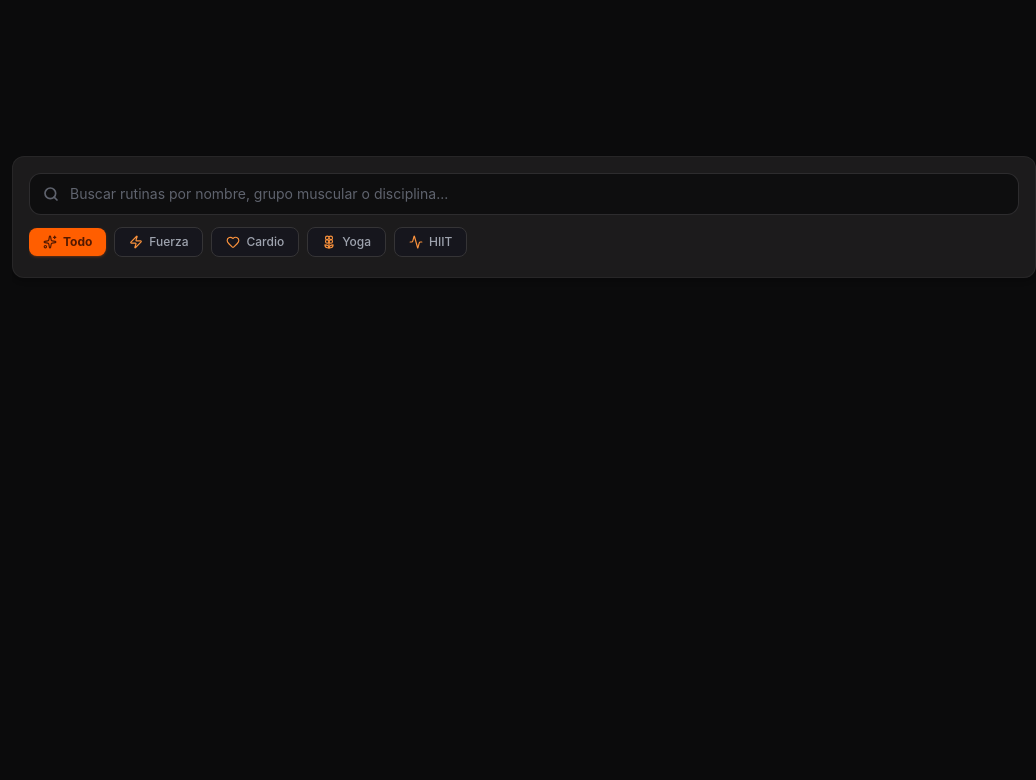
Test: BibliotecaPage › restablece chips y búsqueda con el botón Restablecer filtros
The image size is (1036, 780).
Búsqueda sin coincidencias + filtro Yoga → estado sin resultados del diseño
In the field with placeholder "Buscar rutinas por nombre, grupo muscular o disciplina...": [524, 194] box 29,172 -> 1019,214, type "zzz"
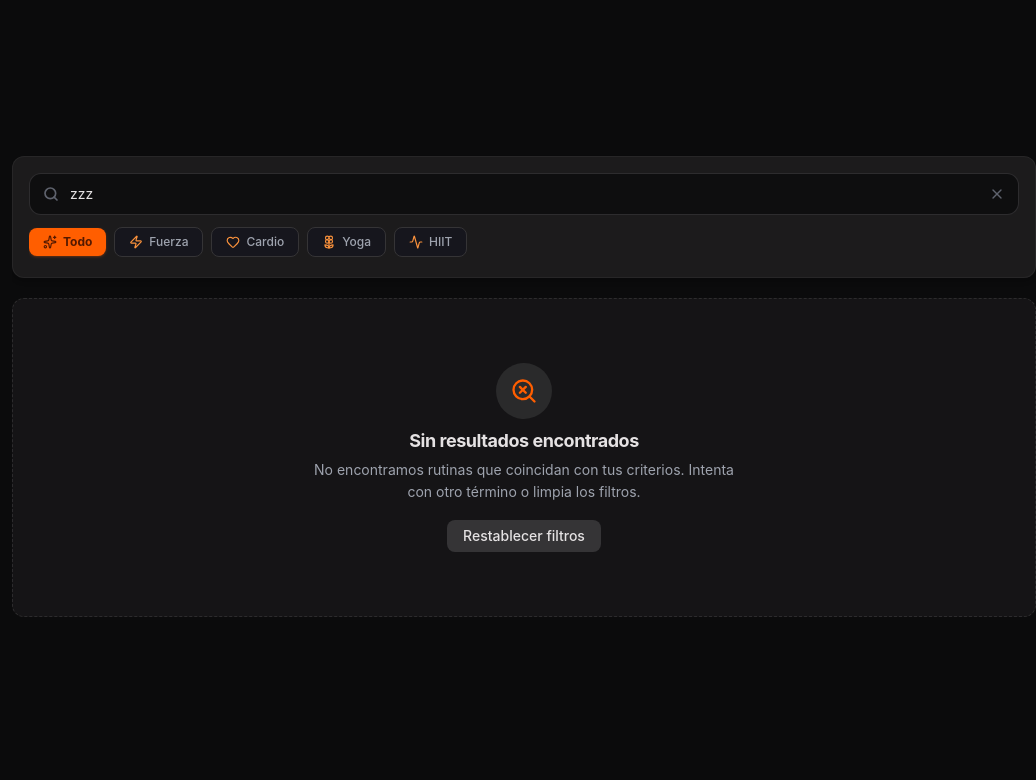
Click the button "Yoga": [347, 242] box 307,226 -> 386,256
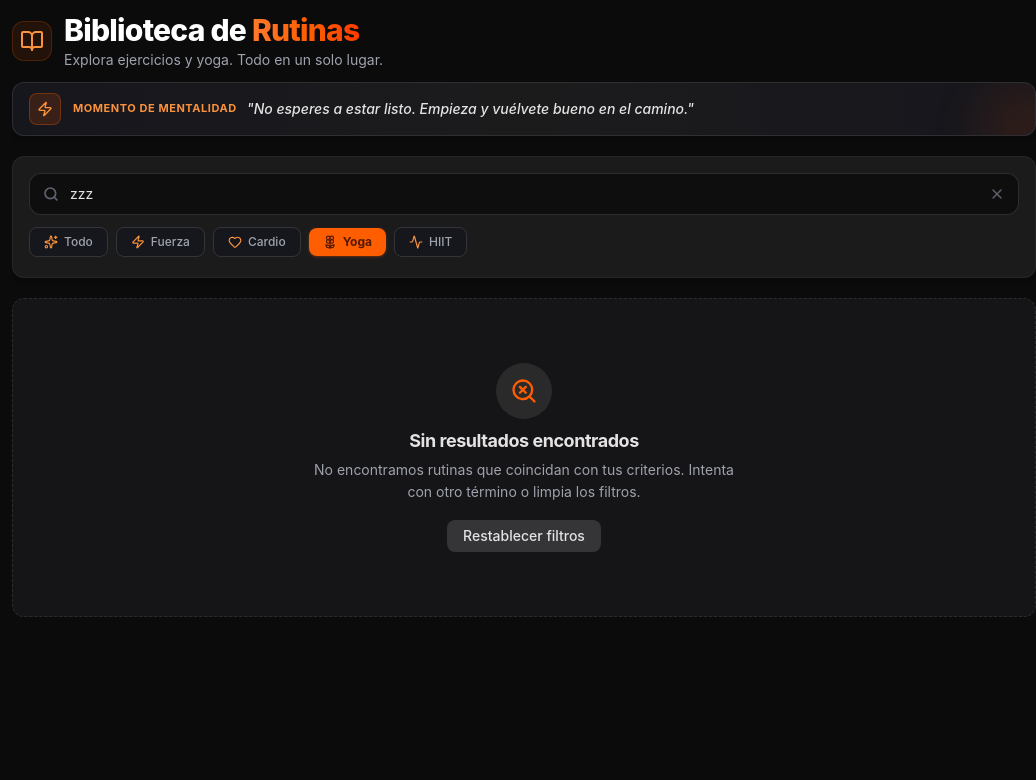
Check: the heading "Sin resultados encontrados" is shown, box 409,430 -> 639,450
Check: the text "No encontramos rutinas que coincidan con tus criterios. Intenta con otro término o limpia los filtros." is shown, box 314,460 -> 734,500
Click the button "Restablecer filtros": [524, 536] box 447,520 -> 601,552
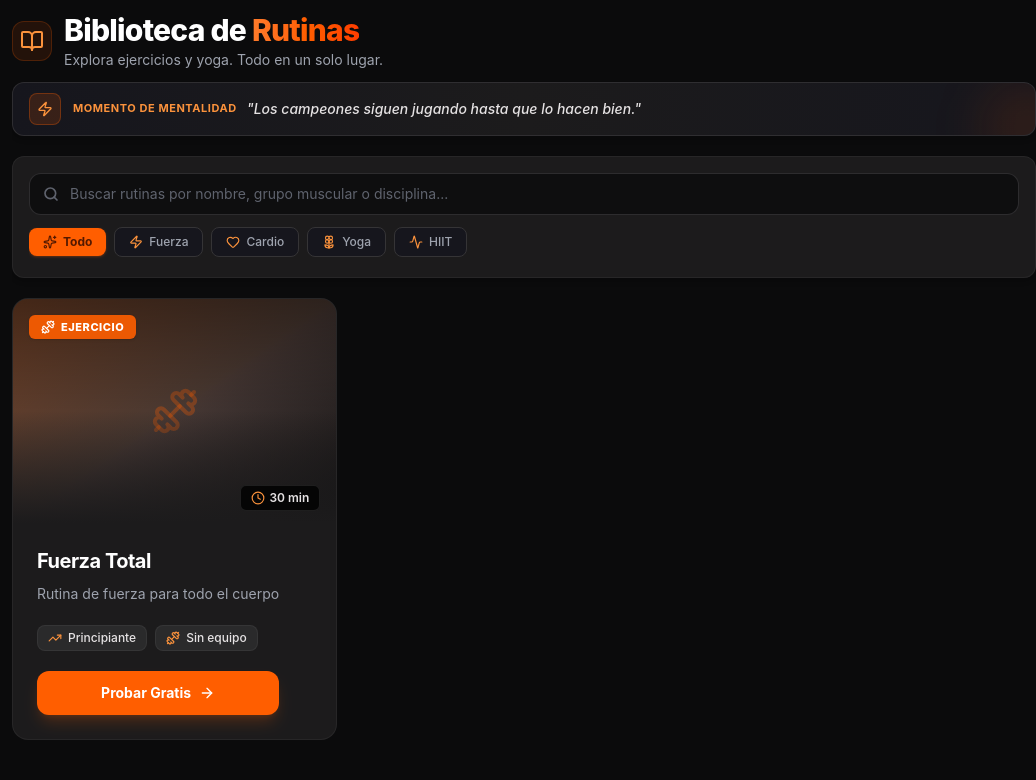
Check: the heading "Fuerza Total" is shown, box 37,548 -> 151,572
Check: the field with placeholder "Buscar rutinas por nombre, grupo muscular o disciplina..." is empty, box 29,172 -> 1019,214
